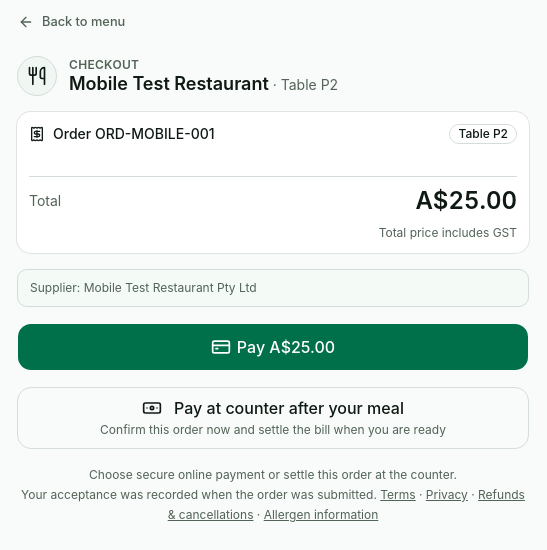
handing the customer over to hosted Checkout › keeps this page alive with a retry when Checkout opened in its own tab
Click the button "Pay A$25.00". click: [273, 347]
box: [17, 323, 529, 371]
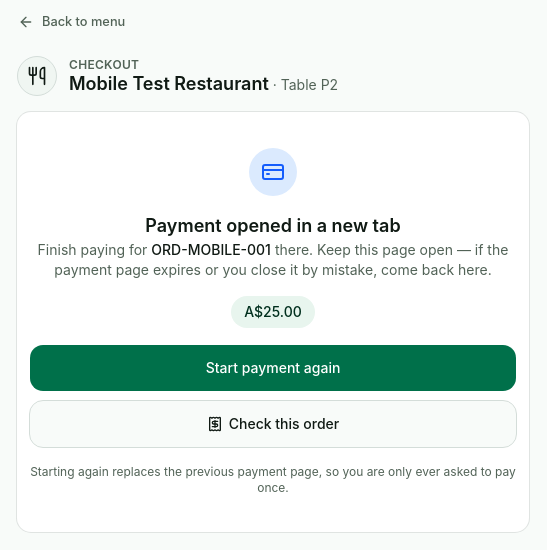
Expected: the heading "Payment opened in a new tab" is shown, [145, 215, 401, 236]
Expected: the button "Start payment again" is shown, [29, 344, 517, 392]
Expected: the button "Check this order" is shown, [29, 400, 517, 448]
